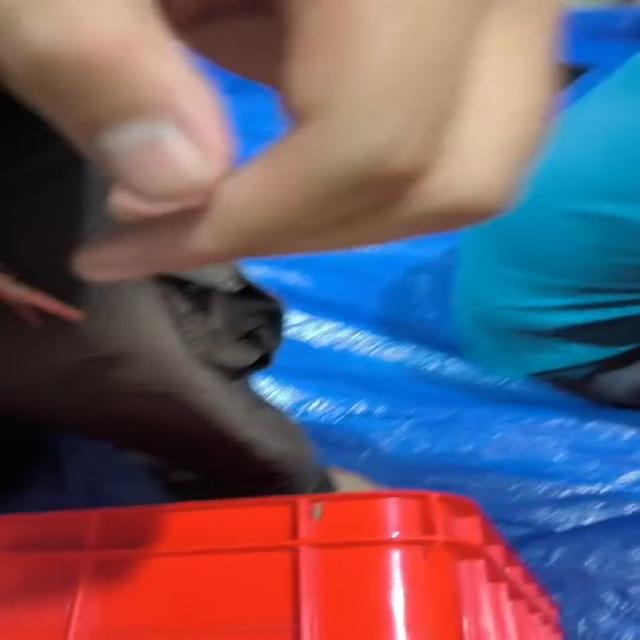red plastic box: (0, 488, 568, 639)
